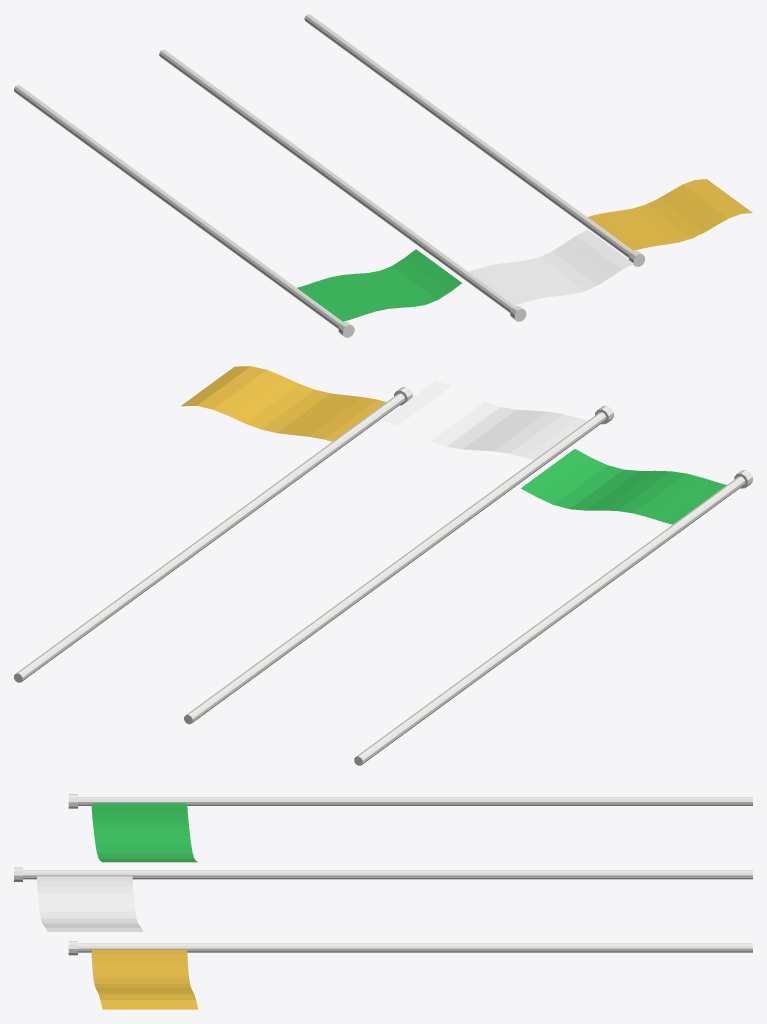
The model's file is drapeaux.glb.
3 renders of one model, top to bottom at view 1: azimuth 30°, elevation 25°; view 2: azimuth 150°, elevation 25°; view 3: azimuth 270°, elevation 25°, orthographic. The views are drawn at different scales.
Visible parts, largest first — view 1: pavillon.001, pavillon, pavillon.002, mat.001, mat.002, mat; view 2: pavillon.001, pavillon, pavillon.002, mat.001, mat, mat.002; view 3: mat.001, mat.002, mat, pavillon.002, pavillon, pavillon.001.
Boxes of the visible parts, x1,y1,x2,y2 form: pavillon.001: (468,230,633,305); pavillon: (297,249,461,321); pavillon.002: (588,179,752,250); mat.001: (159,49,514,312); mat.002: (304,14,633,257); mat: (14,85,343,328); pavillon.001: (382,380,587,460); pavillon: (521,449,726,524); pavillon.002: (181,366,386,441); mat.001: (184,412,606,724); mat: (354,476,745,765); mat.002: (14,393,404,682); mat.001: (23,870,752,879); mat.002: (78,943,752,952); mat: (78,797,752,805); pavillon.002: (91,949,198,1009); pavillon: (91,803,197,862); pavillon.001: (37,876,143,931).
Bounding box in the file's own units: 5.58 × 0.1798 × 8.1.
